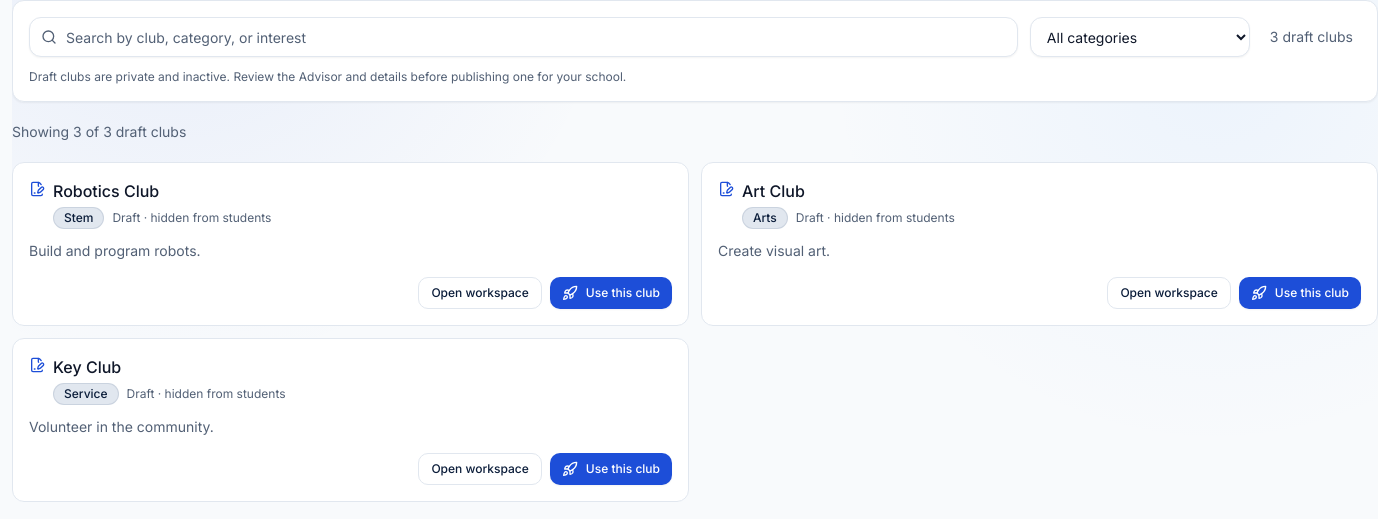
Scenario: DraftClubCatalog › searches and filters a large school catalog
Expected: the text "3 draft clubs" is shown, [1270,28,1353,45]
Expected: the number of links "Use this club" is 3, [550,277,672,309]; [1239,277,1361,309]; [550,453,672,485]
Type "engineering" into the field named "Search draft clubs" at (523, 37), box [29,17,1018,57]
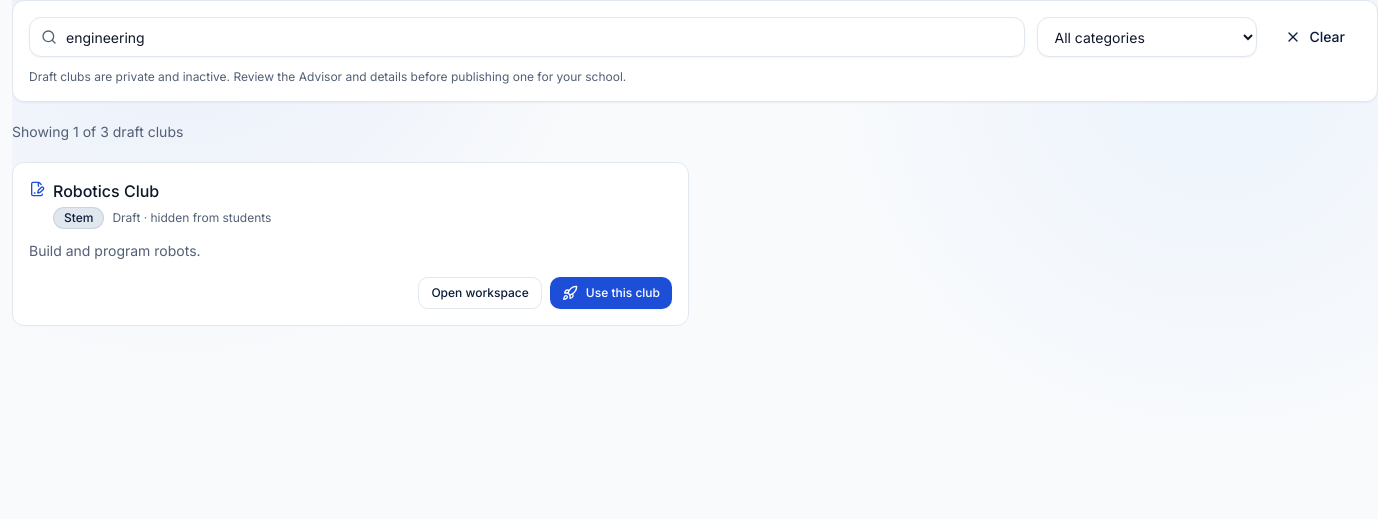
Expected: the heading "Robotics Club" is shown, [53,181,159,201]
Now the heading "Art Club" is gone
Click the button "Clear" at (1315, 37), box [1270,17,1361,57]
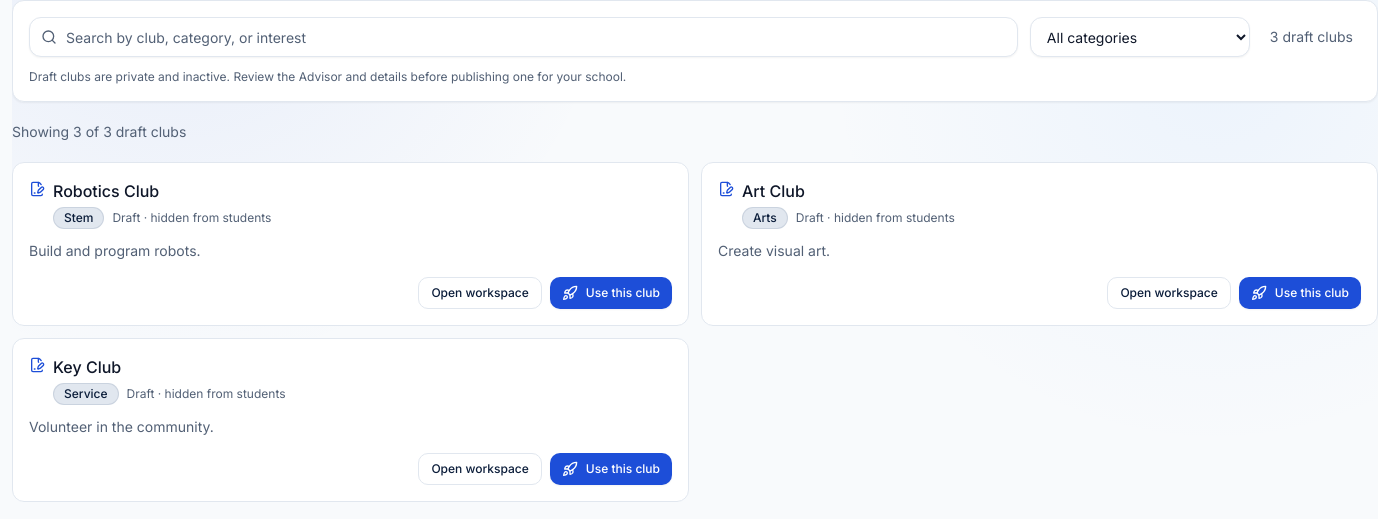
Select "Arts" in the dropdown named "Filter draft clubs by category" at (1140, 37), box [1030,17,1250,57]
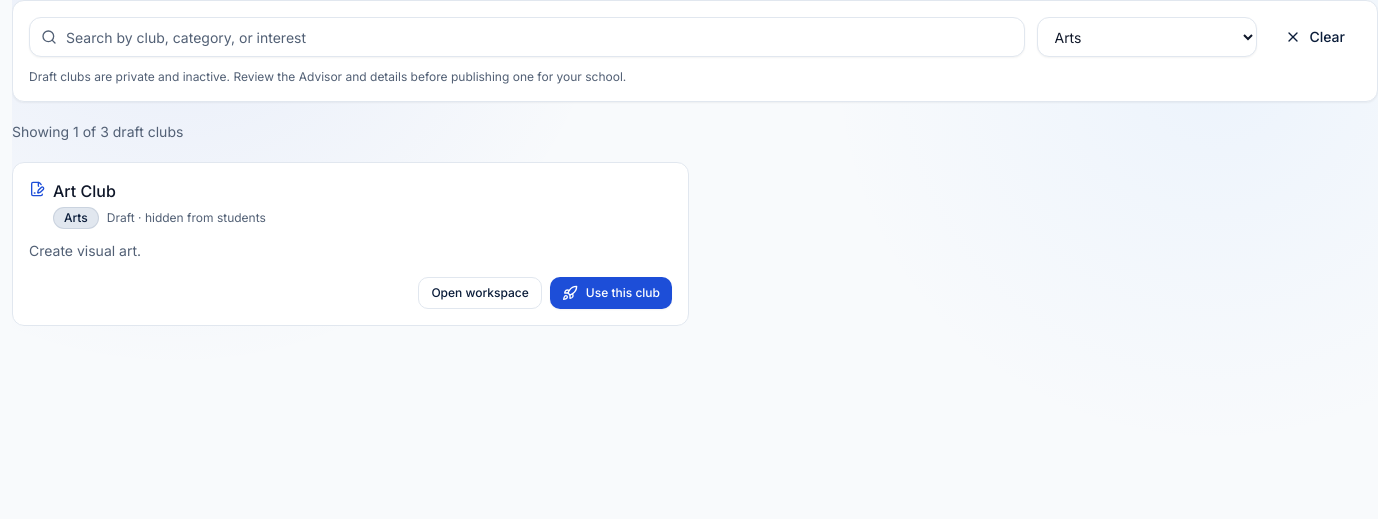
Now the heading "Art Club" is shown, box [53,181,116,201]
Now the heading "Key Club" is gone
